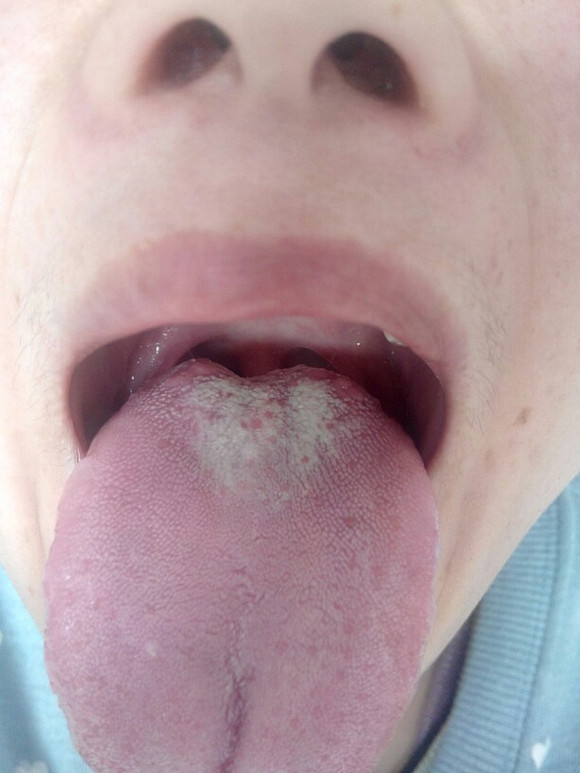baitaishe: (42, 357, 440, 773)
hongdianshe: (261, 408, 276, 422)
